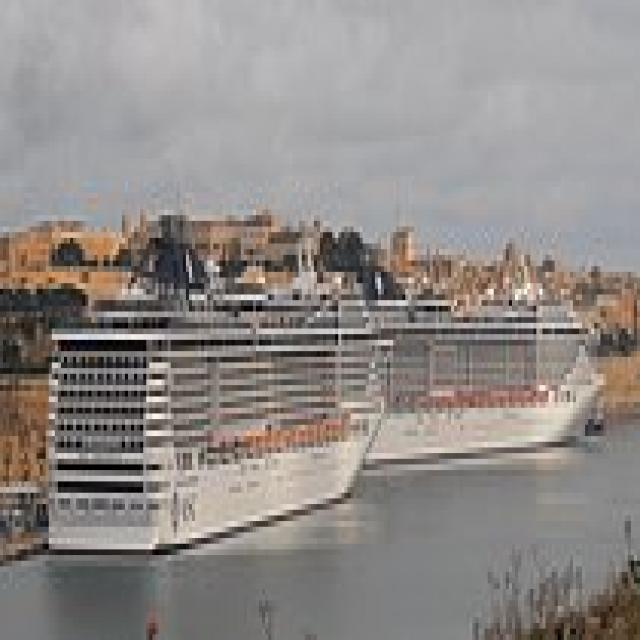Ship: (32, 256, 401, 573)
